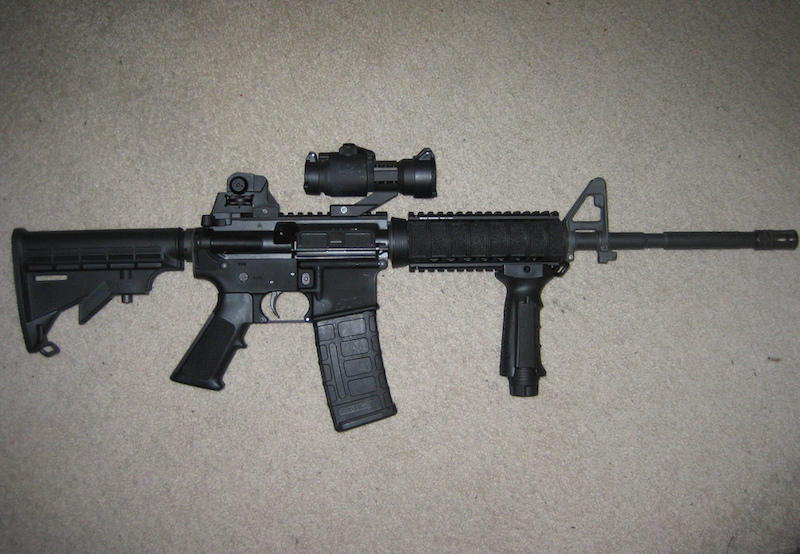Gun: (54, 157, 785, 309)
